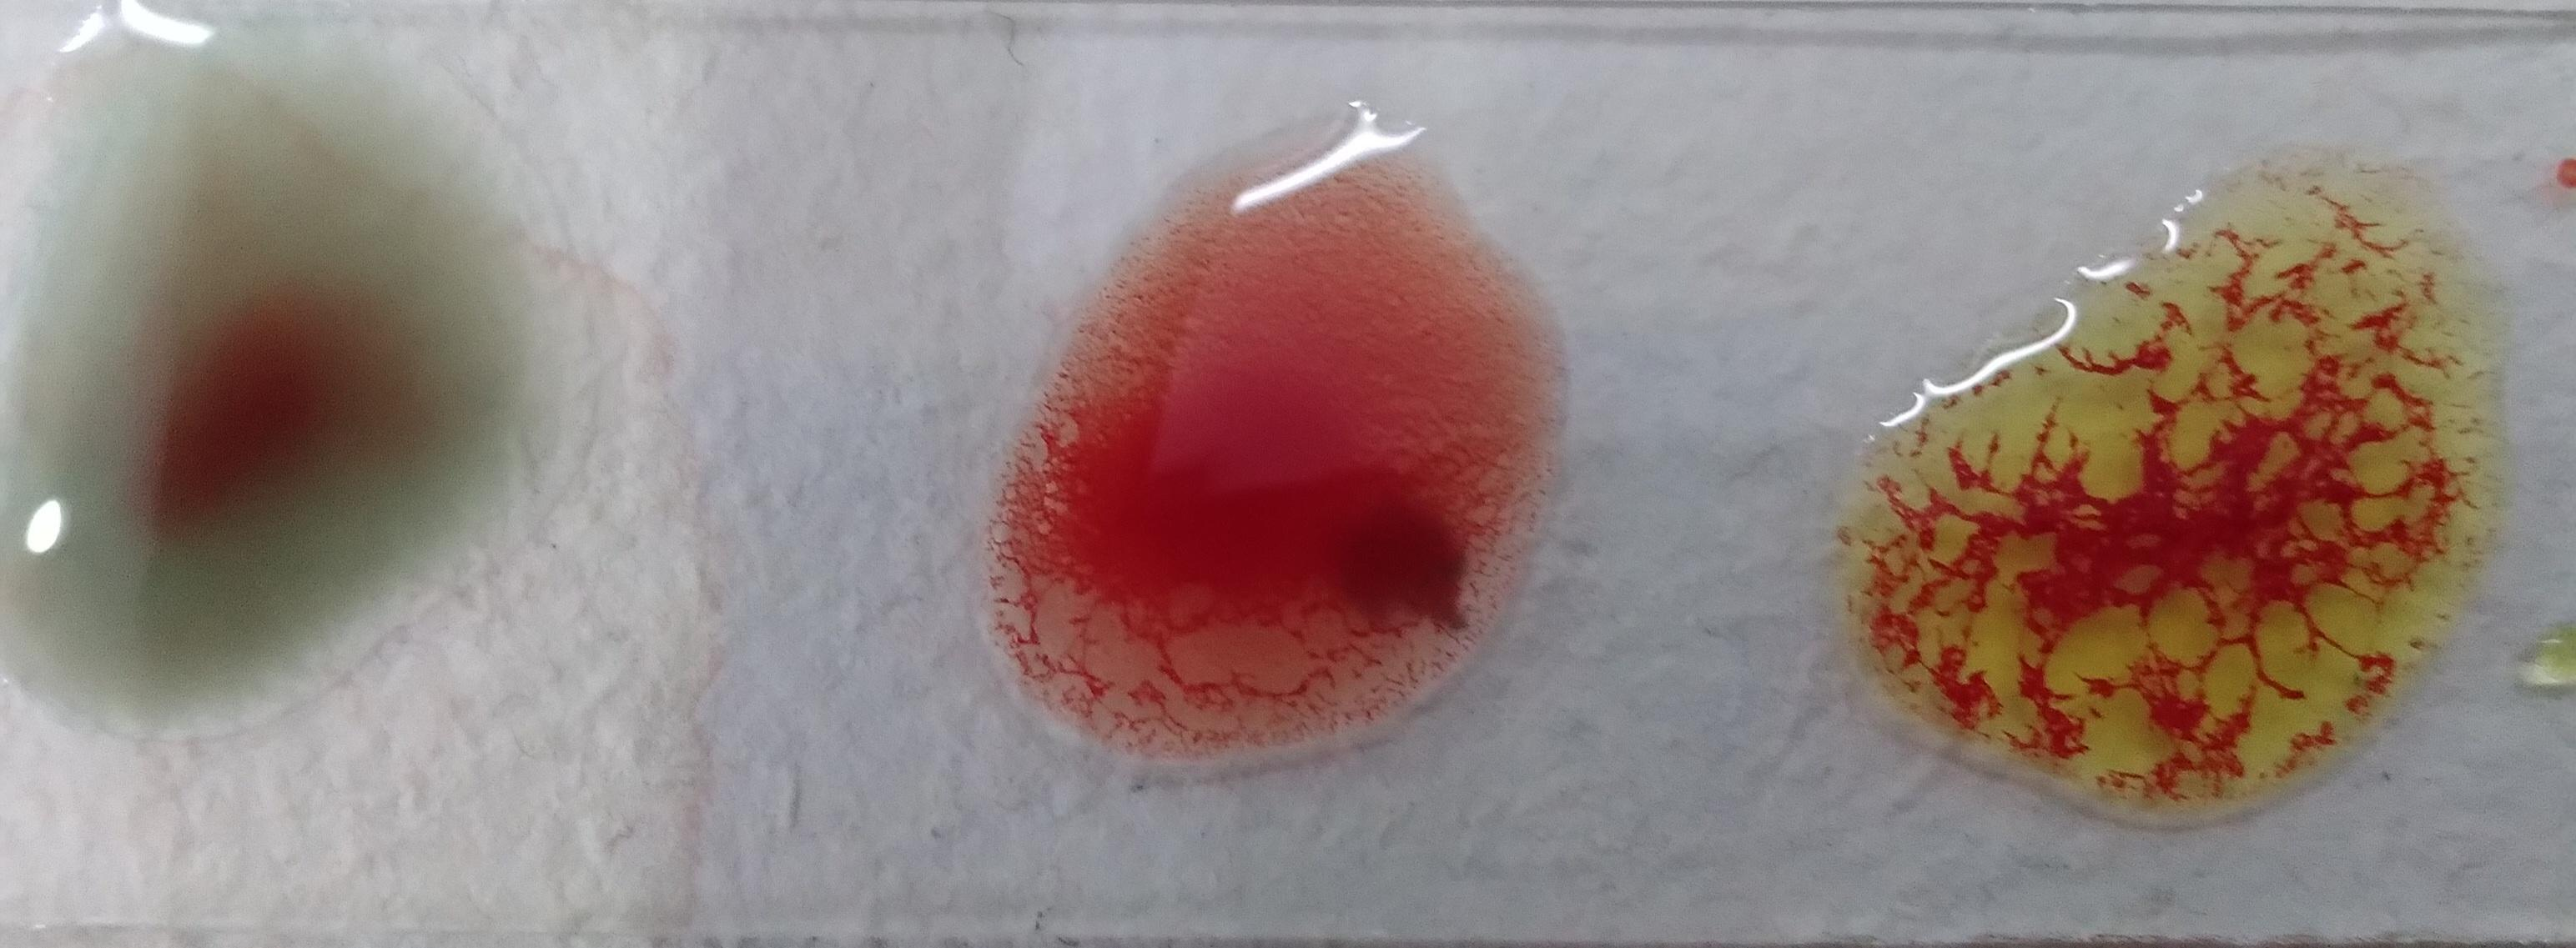B: (76, 122, 706, 792)
D: (1032, 184, 1569, 807)
